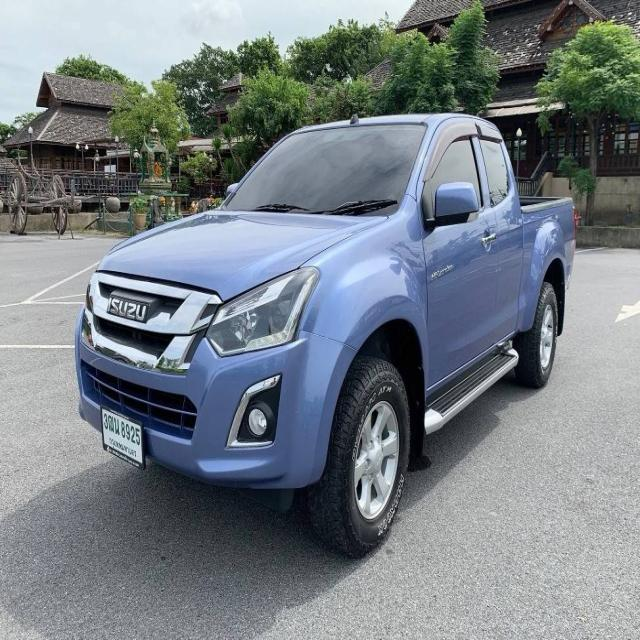license_plate: (100, 404, 146, 473)
